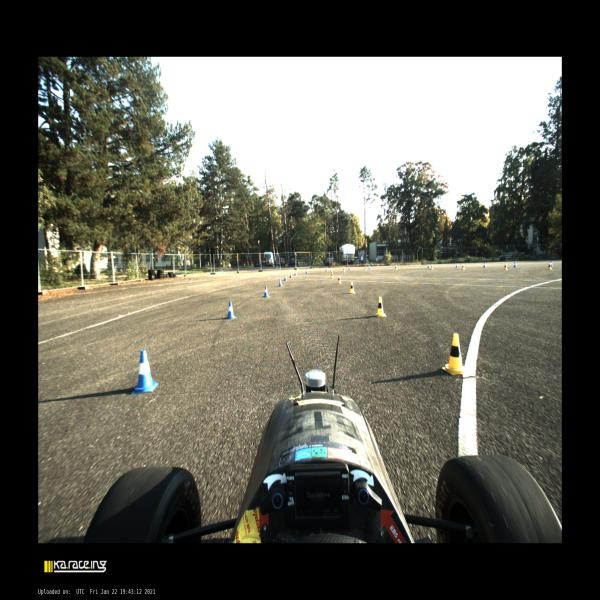blue_cone: (131, 350, 159, 394), (225, 301, 237, 320), (262, 286, 270, 298), (279, 278, 283, 287), (284, 274, 287, 281), (289, 272, 292, 278), (294, 270, 297, 276), (305, 268, 308, 274), (483, 262, 486, 268), (550, 261, 553, 267), (325, 267, 328, 272), (427, 263, 430, 268), (514, 261, 516, 268), (456, 263, 458, 268), (348, 266, 350, 270), (369, 265, 370, 270)
yellow_cone: (441, 332, 466, 374), (374, 296, 387, 317), (349, 281, 356, 294), (337, 275, 342, 284), (503, 263, 508, 271), (548, 263, 552, 270), (395, 264, 398, 270), (430, 264, 433, 270), (462, 264, 465, 270), (331, 273, 334, 278), (343, 268, 346, 272), (364, 266, 366, 271), (331, 271, 333, 275)
